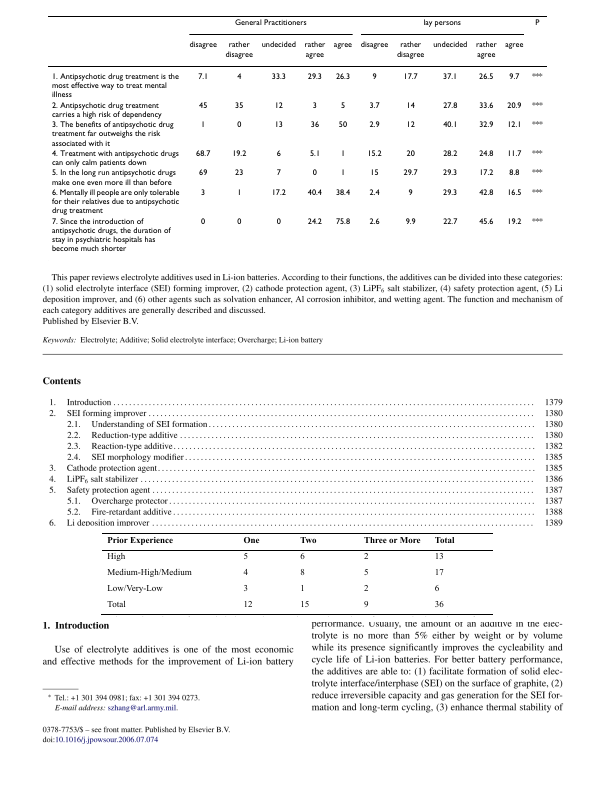borderless: (46, 14, 548, 262), (101, 531, 493, 614)
cell: (50, 217, 171, 254), (50, 188, 180, 216), (50, 72, 179, 100), (50, 120, 174, 149), (50, 168, 176, 188), (50, 149, 179, 168), (50, 101, 162, 120), (106, 568, 192, 578), (233, 18, 307, 28), (106, 535, 173, 545), (362, 535, 421, 545), (395, 41, 425, 60), (106, 584, 163, 594), (224, 41, 253, 60), (303, 41, 326, 60), (474, 41, 497, 60), (422, 18, 461, 28), (260, 41, 296, 50), (432, 41, 468, 50), (359, 41, 389, 50), (188, 41, 217, 50), (433, 535, 455, 545), (106, 552, 126, 562), (106, 600, 126, 610), (332, 41, 353, 50), (504, 41, 524, 50), (242, 535, 260, 545), (299, 535, 317, 545), (334, 188, 351, 198), (334, 217, 351, 227), (270, 72, 286, 82), (306, 72, 322, 82), (334, 72, 350, 82), (402, 72, 418, 82), (442, 72, 458, 82), (478, 72, 494, 82), (442, 101, 458, 111), (478, 101, 494, 111), (506, 101, 522, 111), (442, 120, 458, 130), (478, 120, 494, 130), (506, 120, 522, 130), (195, 149, 211, 159), (231, 149, 247, 159), (366, 149, 382, 159), (442, 149, 458, 159), (478, 149, 494, 159), (506, 149, 522, 159), (402, 168, 418, 178), (442, 168, 458, 178), (478, 168, 494, 178), (270, 188, 286, 198), (306, 188, 322, 198), (442, 188, 458, 198), (478, 188, 494, 198), (506, 188, 522, 198), (306, 217, 322, 227), (442, 217, 458, 227), (478, 217, 494, 227), (506, 217, 522, 227), (197, 72, 209, 82), (508, 72, 520, 82), (531, 72, 543, 82), (368, 101, 380, 111), (531, 101, 543, 111), (368, 120, 380, 130), (531, 120, 543, 130), (308, 149, 320, 159), (531, 149, 543, 159), (508, 168, 520, 178), (531, 168, 543, 178), (368, 188, 380, 198), (531, 188, 543, 198), (368, 217, 380, 227), (404, 217, 416, 227), (531, 217, 543, 227), (309, 120, 320, 130), (337, 120, 348, 130), (433, 552, 444, 562), (433, 568, 444, 578), (242, 600, 253, 610), (299, 600, 310, 610), (433, 600, 444, 610), (198, 101, 208, 111), (234, 101, 244, 111), (273, 101, 283, 111), (405, 101, 415, 111), (273, 120, 283, 130), (405, 120, 415, 130), (405, 149, 415, 159), (198, 168, 208, 178), (234, 168, 244, 178), (369, 168, 379, 178), (339, 101, 346, 111), (339, 149, 346, 159), (339, 168, 346, 178), (362, 552, 369, 562), (362, 568, 369, 578), (362, 584, 369, 594), (433, 584, 440, 594), (362, 600, 369, 610), (534, 18, 540, 28), (236, 72, 242, 82), (371, 72, 377, 82), (311, 101, 317, 111), (200, 120, 206, 130), (236, 120, 242, 130), (275, 149, 281, 159), (275, 168, 281, 178), (311, 168, 317, 178), (200, 188, 206, 198), (236, 188, 242, 198), (407, 188, 413, 198), (200, 217, 206, 227), (236, 217, 242, 227), (275, 217, 281, 227), (242, 552, 248, 562), (299, 552, 305, 562), (242, 568, 248, 578), (299, 568, 305, 578), (242, 584, 248, 594), (299, 584, 305, 594)
